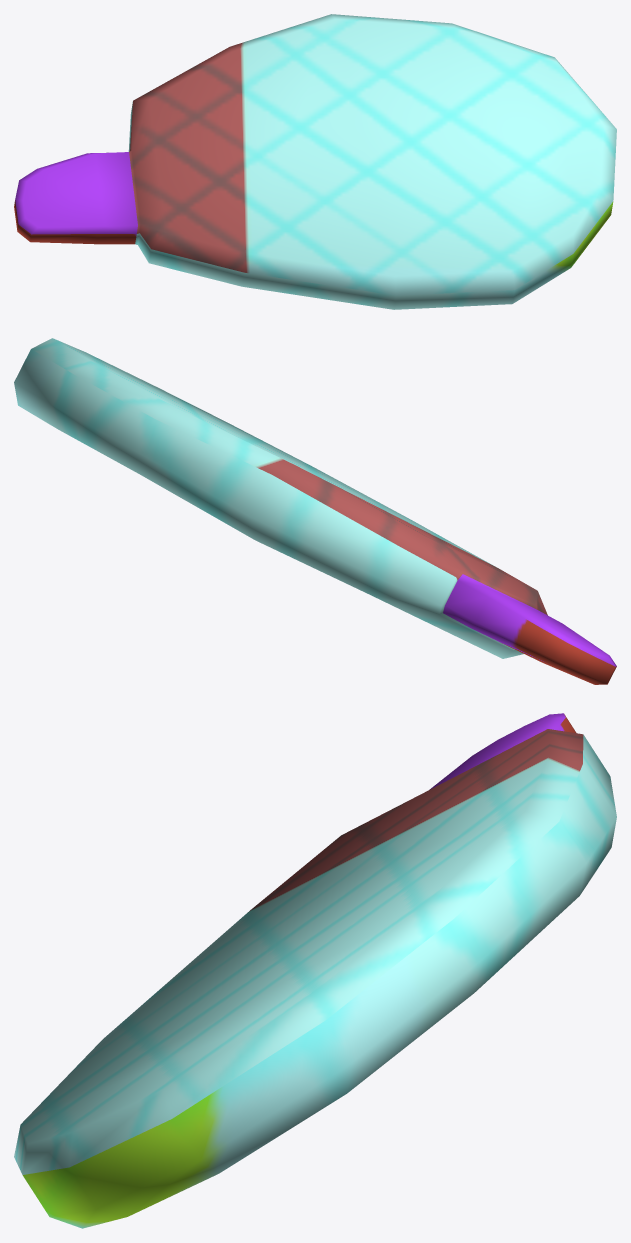
Rendered from me_Bee01-wing01.fbx.
3 renders of one model, top to bottom at view 1: azimuth 30°, elevation 25°; view 2: azimuth 150°, elevation 25°; view 3: azimuth 270°, elevation 25°, orthographic. The views are drawn at different scales.
Visible parts, largest first — view 1: me_Bee01-wing01; view 2: me_Bee01-wing01; view 3: me_Bee01-wing01.
Boxes of the visible parts, left/top/right/bottom form: me_Bee01-wing01: left=14, top=14, right=616, bottom=309; me_Bee01-wing01: left=14, top=338, right=616, bottom=684; me_Bee01-wing01: left=14, top=713, right=616, bottom=1228.
Bounding box in the file's own units: 27.5 × 10.23 × 15.66.
Materials: 1 (1 with a texture image).
